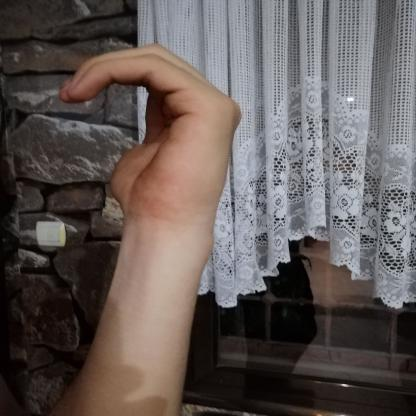HAA: (40, 33, 257, 230)
